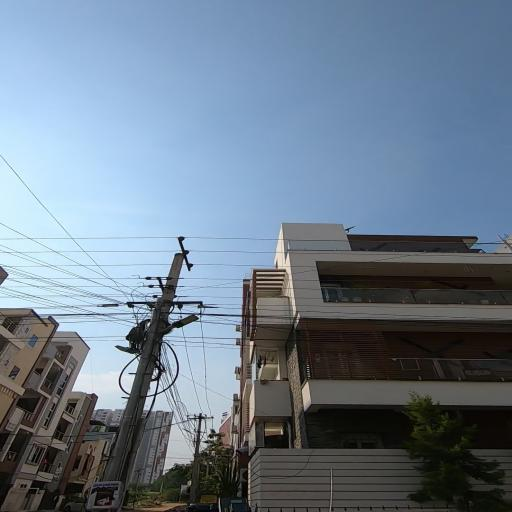Street_light: (162, 312, 201, 334)
